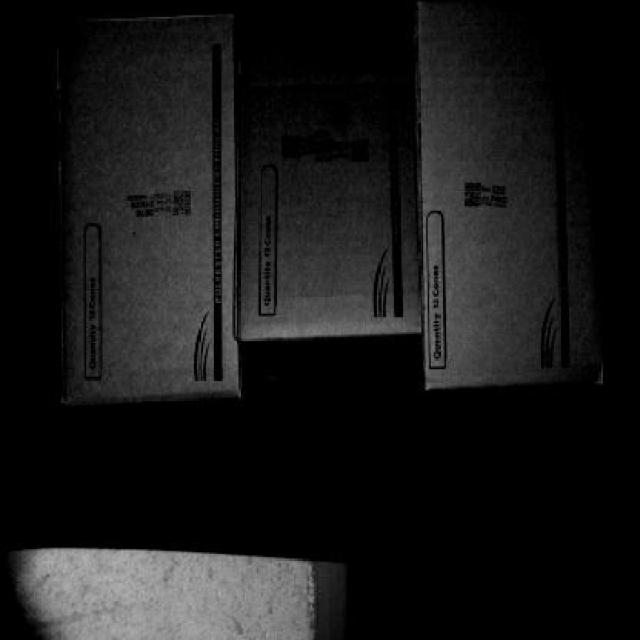cardboxes: (55, 12, 239, 397), (428, 0, 604, 382), (243, 11, 425, 334)
